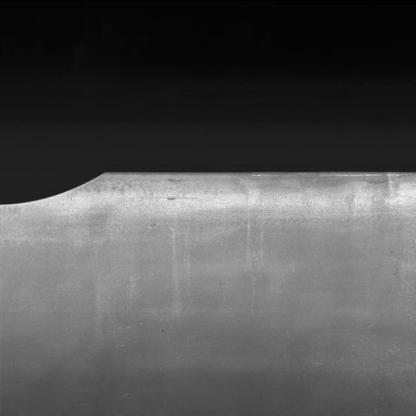crescent_gap: (1, 162, 111, 207)
